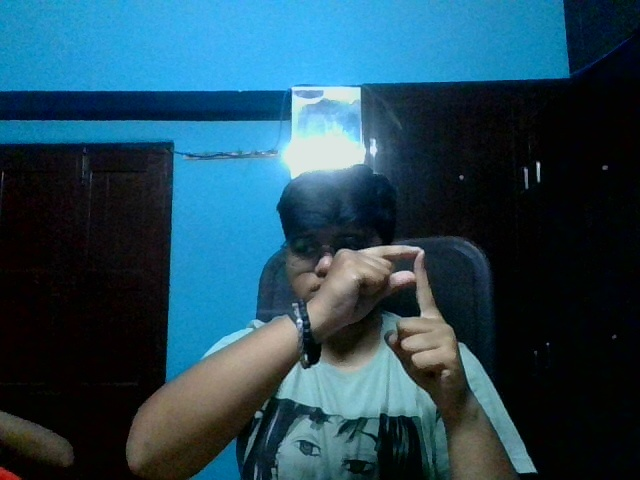P: (328, 238, 470, 393)
